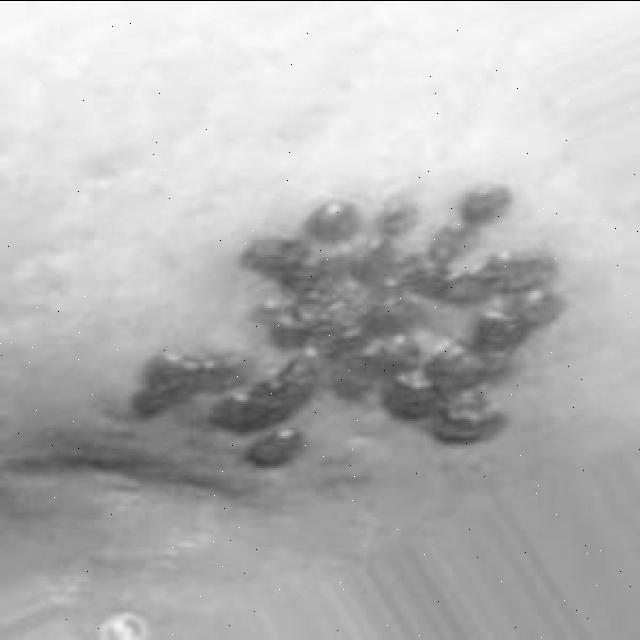Shingles: (128, 183, 569, 470)
